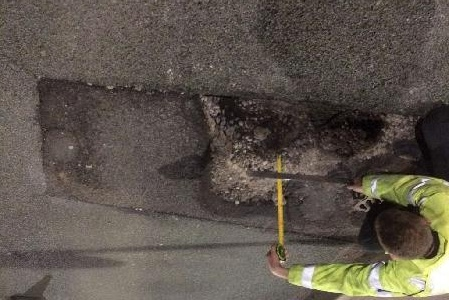pothole: (190, 90, 299, 220)
